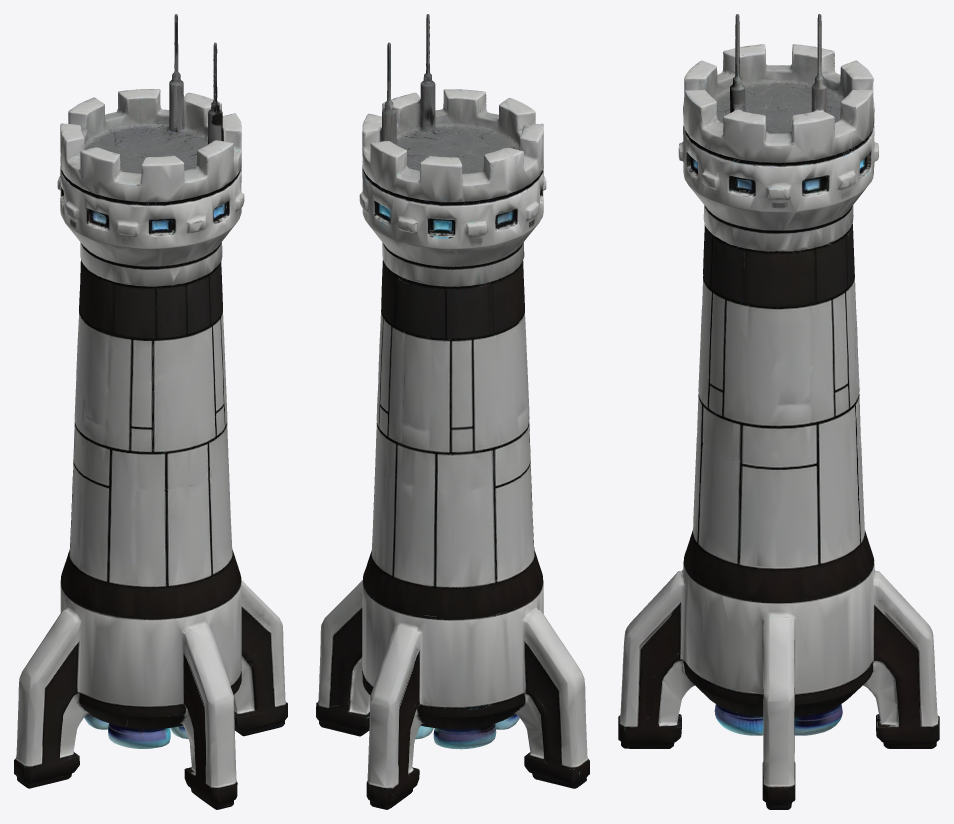
Rendered from rua.glb.
3 views of the same model, side by side, from view 1: azimuth 30°, elevation 25°; view 2: azimuth 150°, elevation 25°; view 3: azimuth 270°, elevation 25° (orthographic). The views are drawn at different scales.
Parts seen in each view (by area): view 1: Mesh_0; view 2: Mesh_0; view 3: Mesh_0.
Boxes of the visible parts, left/top/right/bottom form: Mesh_0: left=14, top=14, right=287, bottom=809; Mesh_0: left=316, top=14, right=589, bottom=809; Mesh_0: left=618, top=14, right=939, bottom=809.
Size of the model in its own units: 0.7389 by 1.91 by 0.7389.
Materials: 1 (1 with a texture image).
